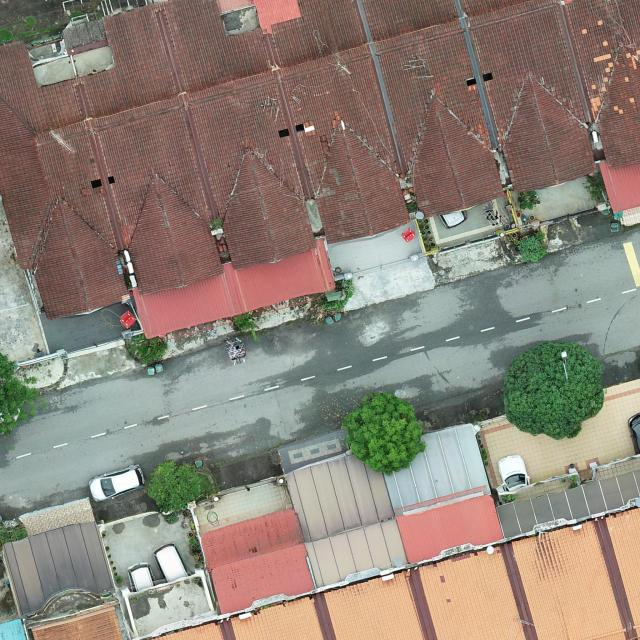Tree: (503, 340, 605, 440), (340, 389, 428, 476), (0, 348, 40, 436), (146, 458, 202, 516), (514, 230, 548, 264)
